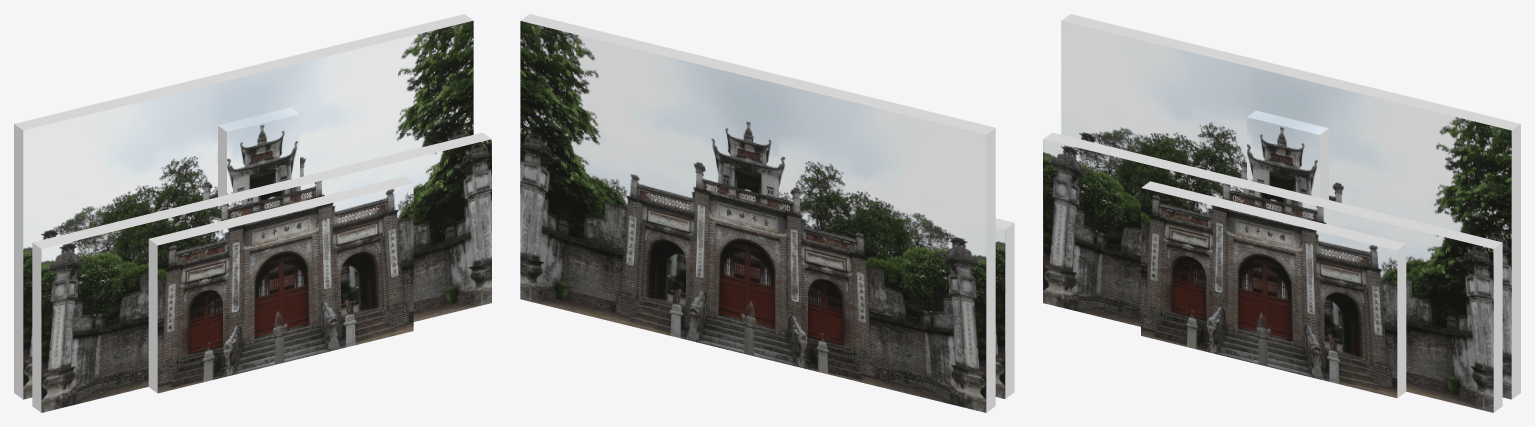
The model's file is coloa.glb.
The picture shows the model from 3 angles, left to right: view 1: azimuth 30°, elevation 25°; view 2: azimuth 150°, elevation 25°; view 3: azimuth 330°, elevation 25°; orthographic projection. The views are drawn at different scales.
Parts seen in each view (by area): view 1: coloa; view 2: coloa; view 3: coloa.
Boxes of the visible parts, x1=… form: coloa: x1=14, y1=14, x2=491, y2=412; coloa: x1=520, y1=14, x2=1014, y2=412; coloa: x1=1043, y1=14, x2=1520, y2=412.
Bounding box in the file's own units: 5.16 × 2.95 × 0.7232.
1 material, 1 textured.
